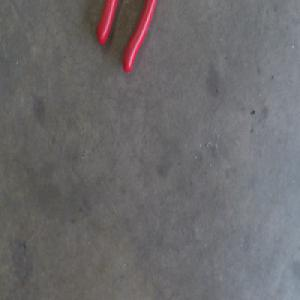Pliers: (98, 0, 159, 77)
